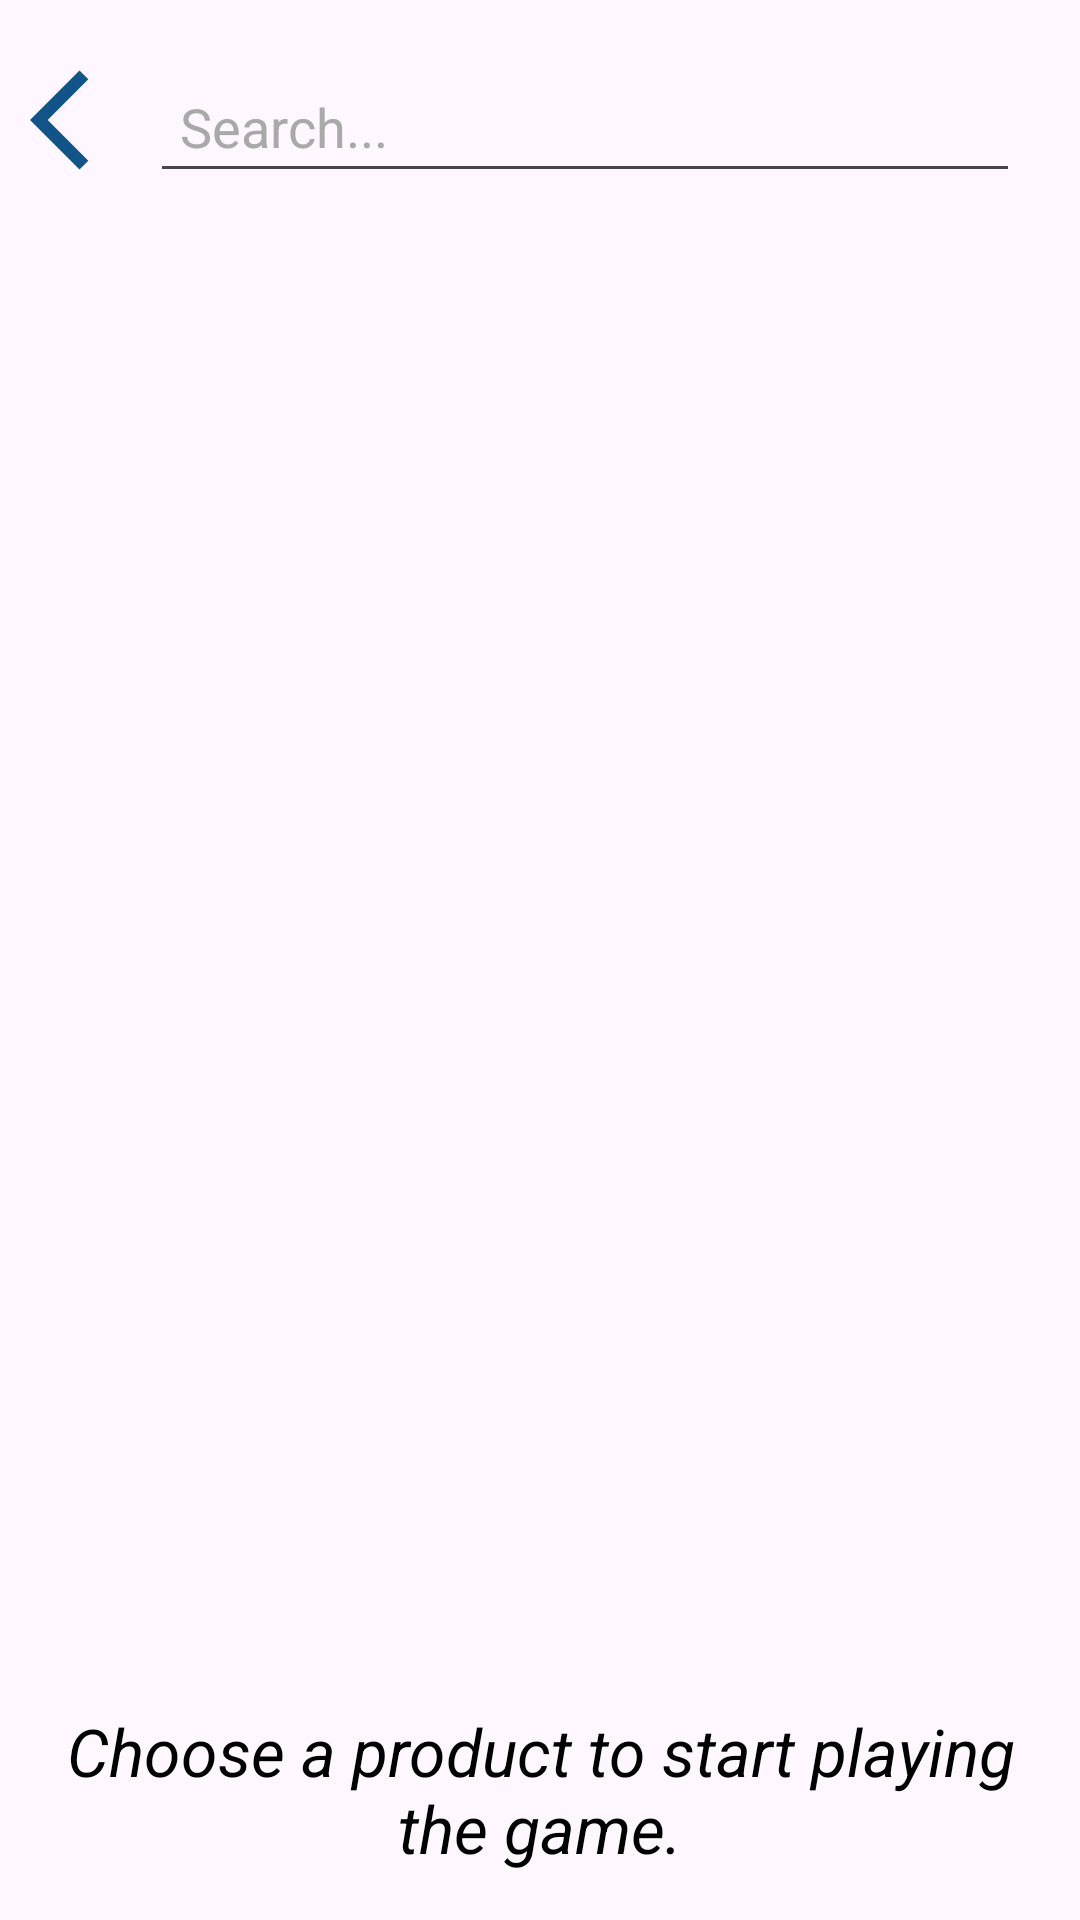

Icons on this 1080 x 1920 Android screen, each with its box as (x1, y1, x2, y2):
arrow back: (30, 70, 89, 170)
